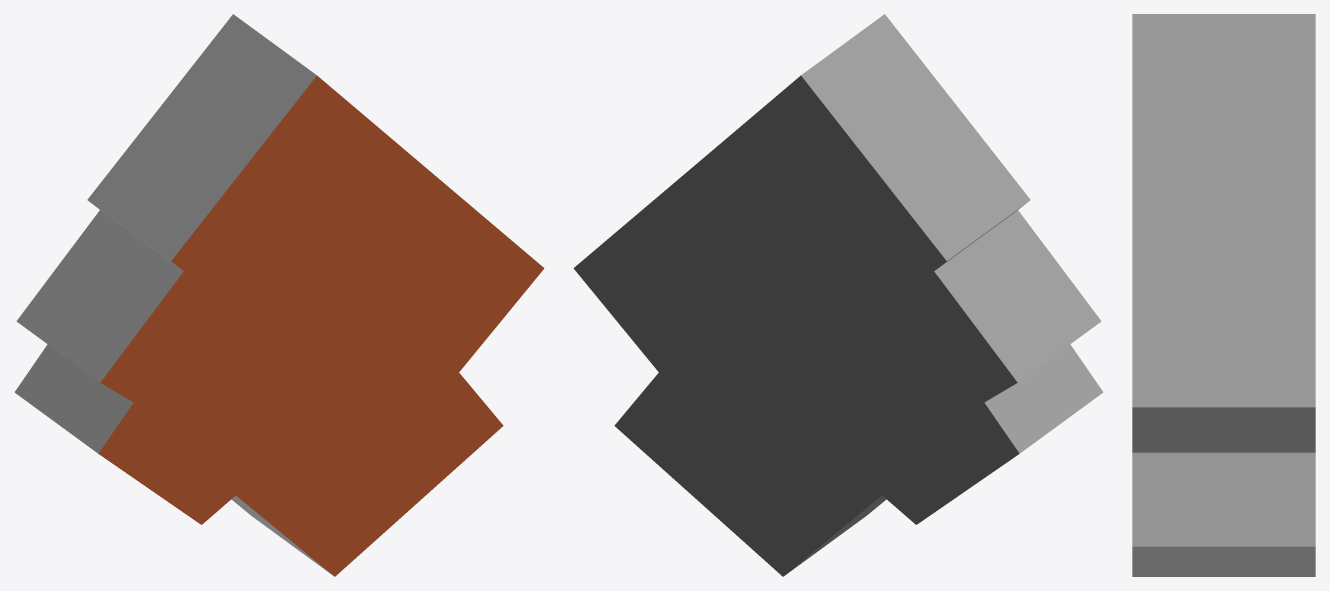
Rendered from construction_4990_assumed_A_Casa_h6m.obj.
3 renders of one model, left to right at view 1: azimuth 30°, elevation 25°; view 2: azimuth 150°, elevation 25°; view 3: azimuth 270°, elevation 25°, orthographic. The views are drawn at different scales.
Visible parts, largest first — view 1: construction_4990_assumed_A_Casa; view 2: construction_4990_assumed_A_Casa; view 3: construction_4990_assumed_A_Casa.
Part boxes in pixels (bbox=[...]): construction_4990_assumed_A_Casa: bbox=[14, 14, 544, 576]; construction_4990_assumed_A_Casa: bbox=[573, 14, 1103, 576]; construction_4990_assumed_A_Casa: bbox=[1132, 14, 1315, 576].
Size of the model in its own units: 18.43 by 19.97 by 6.
